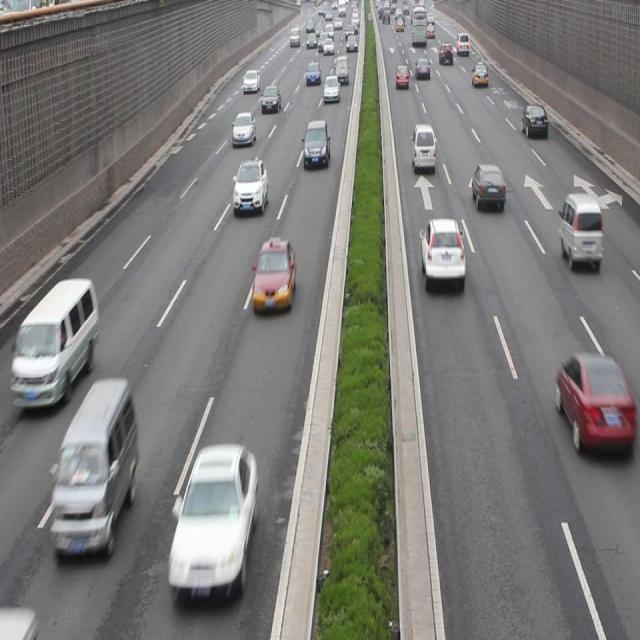car: (172, 444, 256, 600), (554, 351, 627, 456), (253, 235, 294, 316), (419, 215, 464, 286), (233, 157, 269, 215), (471, 164, 504, 211), (302, 121, 330, 168), (230, 112, 254, 148), (521, 105, 546, 137)
truck: (50, 380, 136, 562), (12, 280, 98, 415), (560, 191, 602, 272), (411, 124, 434, 174)
